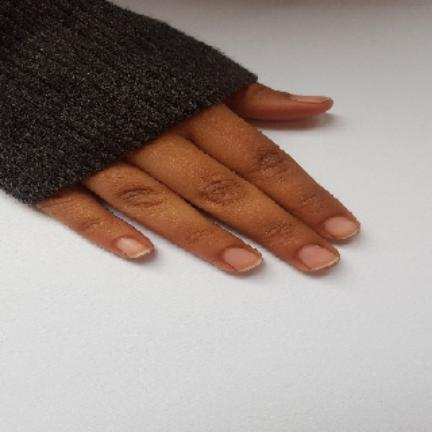Nail: (300, 245, 339, 271), (224, 248, 263, 272), (116, 237, 153, 259), (325, 217, 359, 240), (290, 95, 330, 103)
